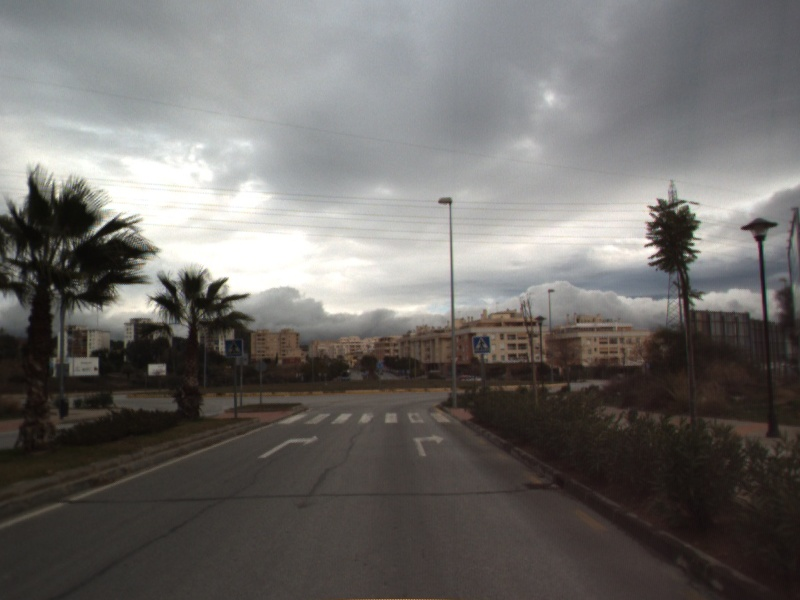RIGHT: (256, 433, 320, 460), (411, 432, 446, 458)
